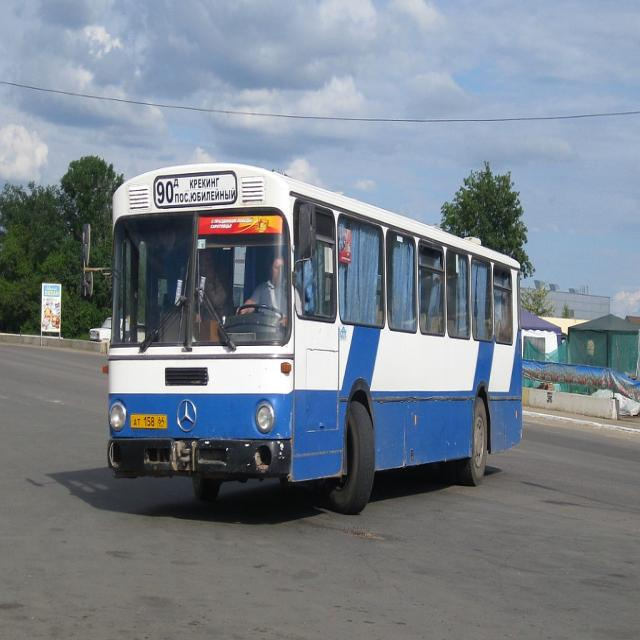number-of-bus: (156, 180, 175, 208)
